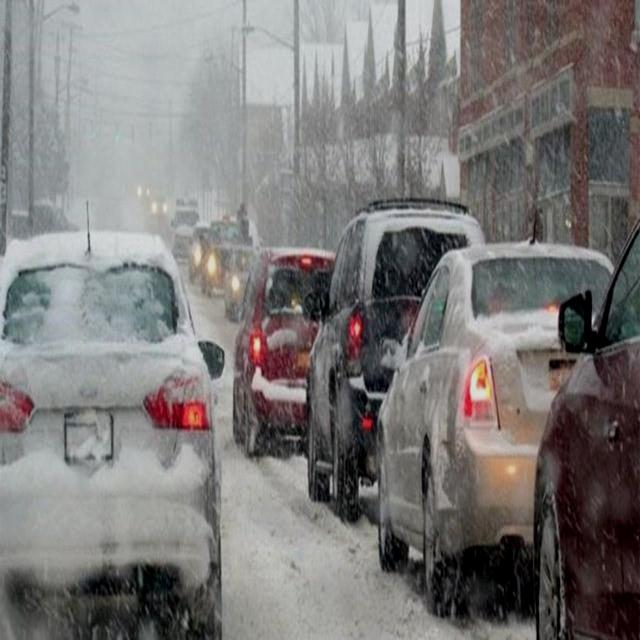Car: (0, 225, 228, 640), (379, 245, 621, 600), (231, 245, 332, 454)
